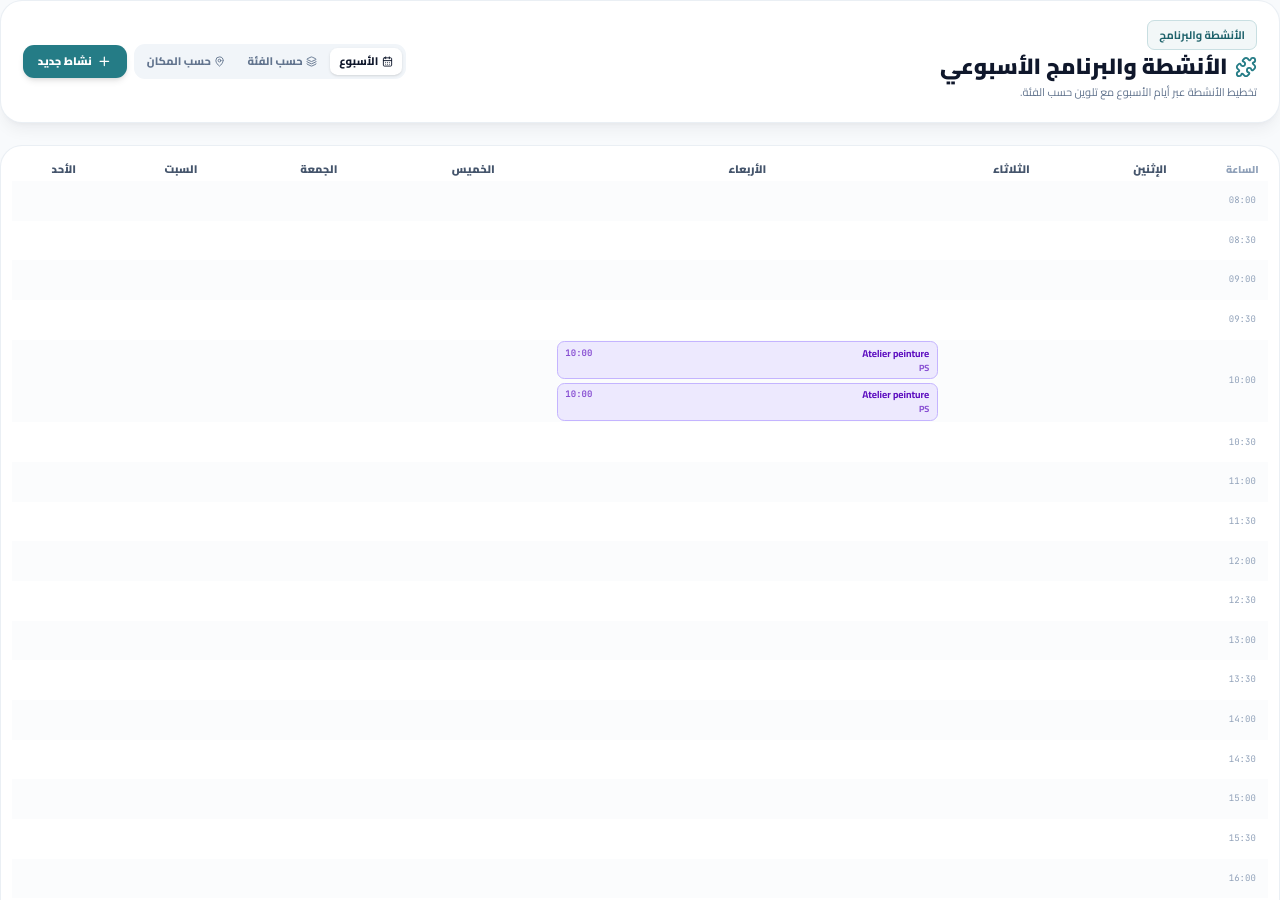
it: ActivitiesModule › regroups activities when the grouping toggle changes
Expected: the 1st text "PS" is shown, [919,359,929,376]
Note: switch to location grouping
What coordinates should you click on to do the following:
click the button "حسب المكان"
I would click on:
 (186, 62)
Its box is [138,48,235,75].
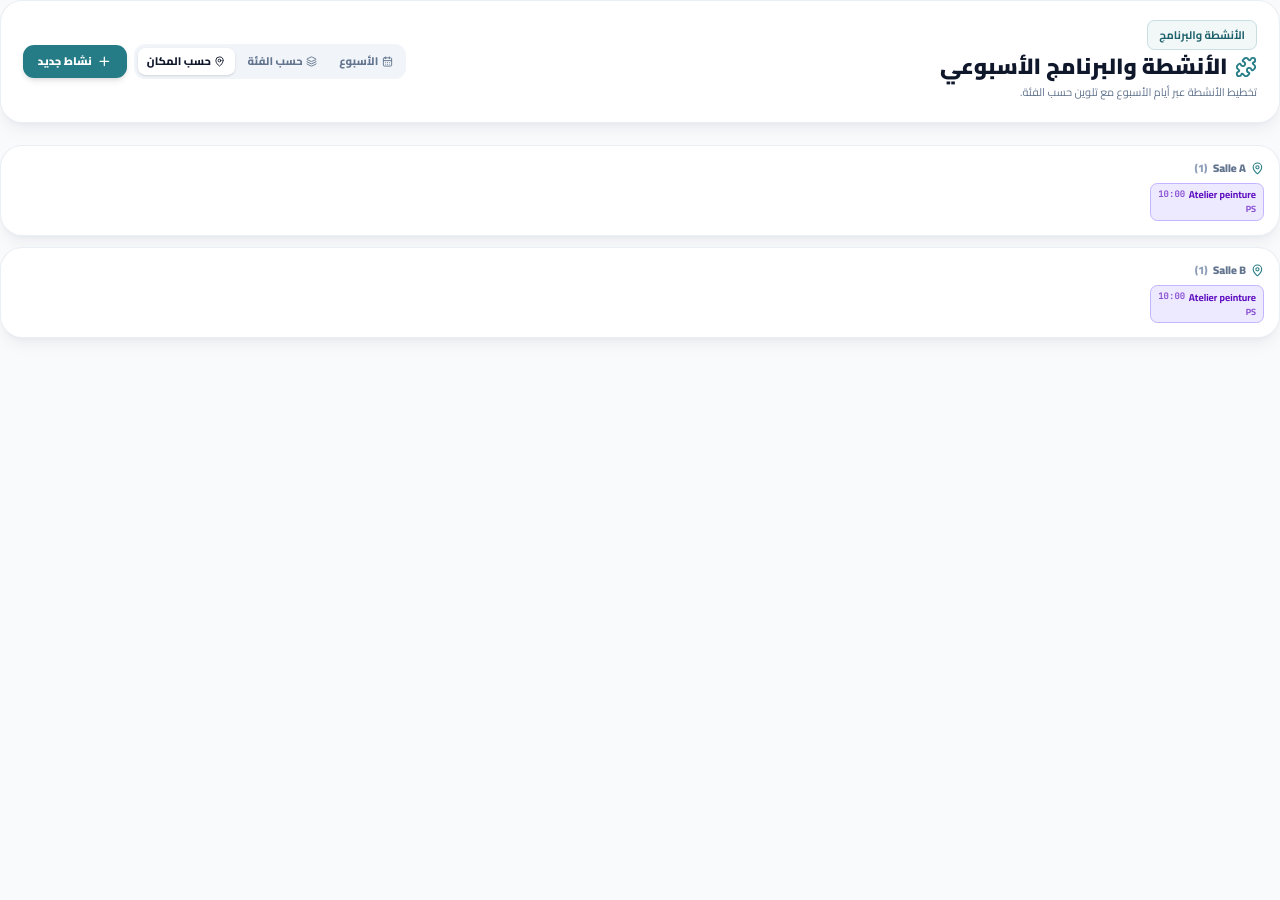
Result: the text "Salle A" is shown at [1213,158,1246,178]
Result: the text "Salle B" is shown at [1213,260,1246,280]
